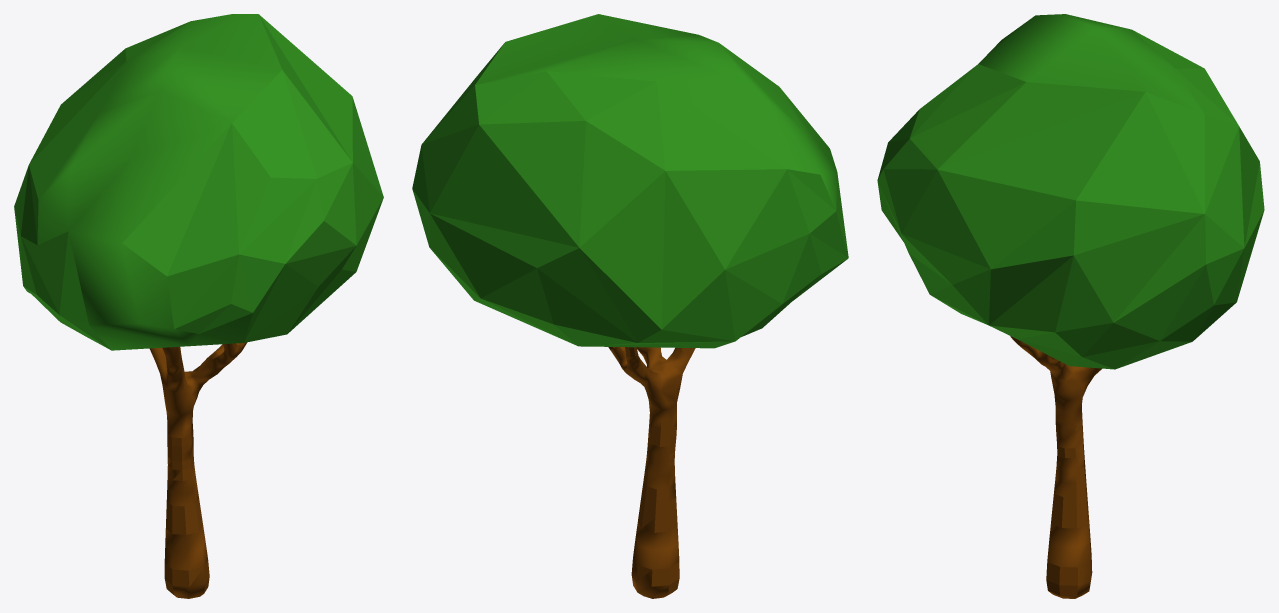
Rendered from tree_d.glb.
3 views of the same model, side by side, from view 1: azimuth 30°, elevation 25°; view 2: azimuth 150°, elevation 25°; view 3: azimuth 270°, elevation 25° (orthographic). The views are drawn at different scales.
Parts seen in each view (by area): view 1: Lowpolytree_4_green_Green.002_0, Lowpolytree_4_green_Wood_0; view 2: Lowpolytree_4_green_Green.002_0, Lowpolytree_4_green_Wood_0; view 3: Lowpolytree_4_green_Green.002_0, Lowpolytree_4_green_Wood_0.
Part boxes in pixels (x1,y1,x2,y2): Lowpolytree_4_green_Green.002_0: [14, 14, 383, 350]; Lowpolytree_4_green_Wood_0: [149, 342, 247, 598]; Lowpolytree_4_green_Green.002_0: [412, 14, 848, 348]; Lowpolytree_4_green_Wood_0: [608, 347, 695, 598]; Lowpolytree_4_green_Green.002_0: [877, 14, 1264, 369]; Lowpolytree_4_green_Wood_0: [1010, 336, 1101, 598].
Size of the model in its own units: 2.93 by 4.42 by 2.73.
